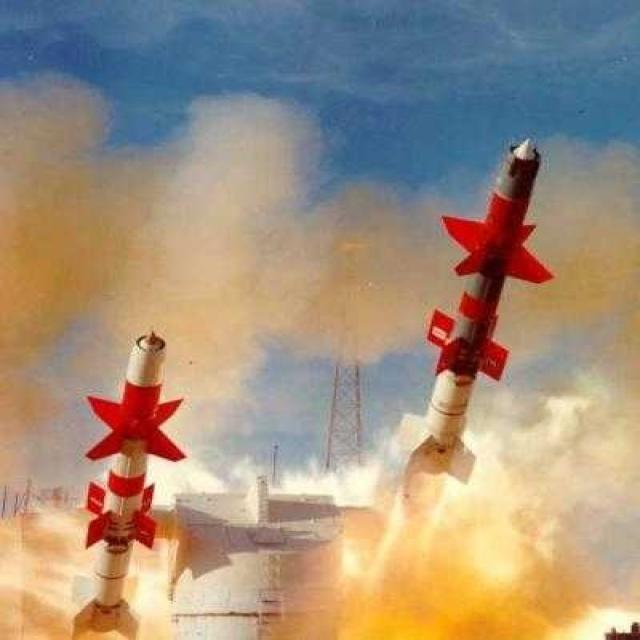missile: (402, 135, 556, 475), (82, 327, 178, 640)
